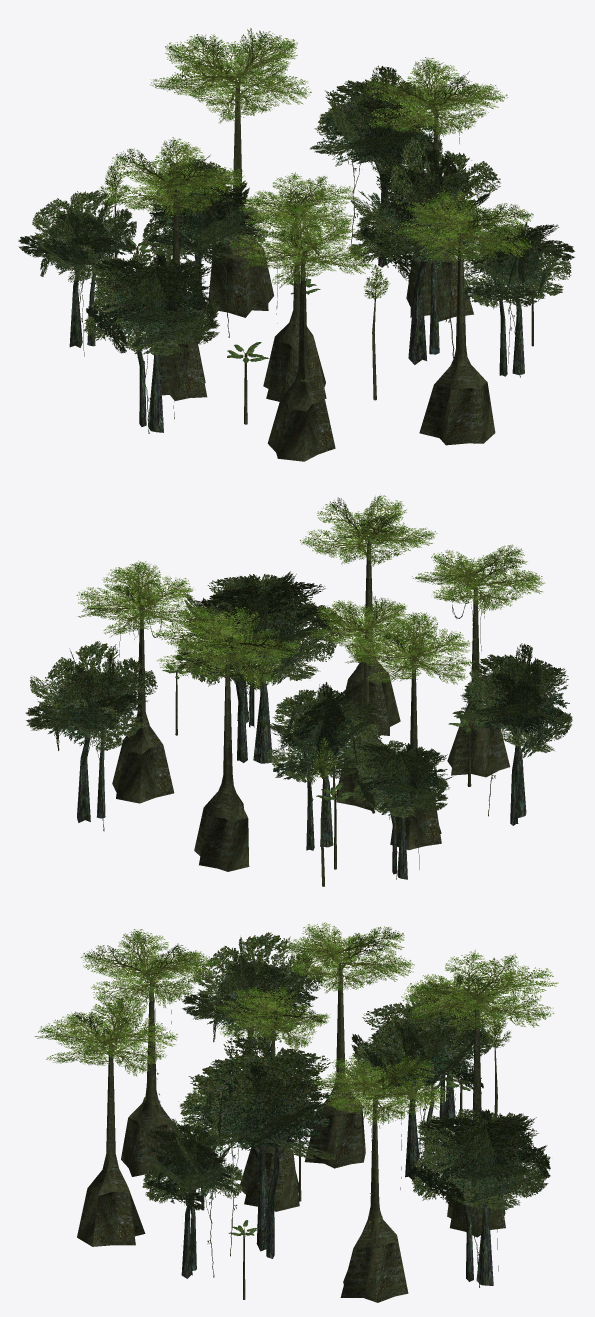
3 renders of one model, top to bottom at view 1: azimuth 30°, elevation 25°; view 2: azimuth 150°, elevation 25°; view 3: azimuth 270°, elevation 25°, orthographic. The views are drawn at different scales.
Parts seen in each view (by area): view 1: _Tg01c; view 2: _Tg01c; view 3: _Tg01c.
Part boxes in pixels (x1,y1,x2,y2): _Tg01c: [18, 28, 574, 461]; _Tg01c: [25, 495, 572, 886]; _Tg01c: [34, 922, 558, 1302].
Bounding box in the file's own units: 55.86 × 30.02 × 58.24.
Materials: 8 (8 with a texture image).
